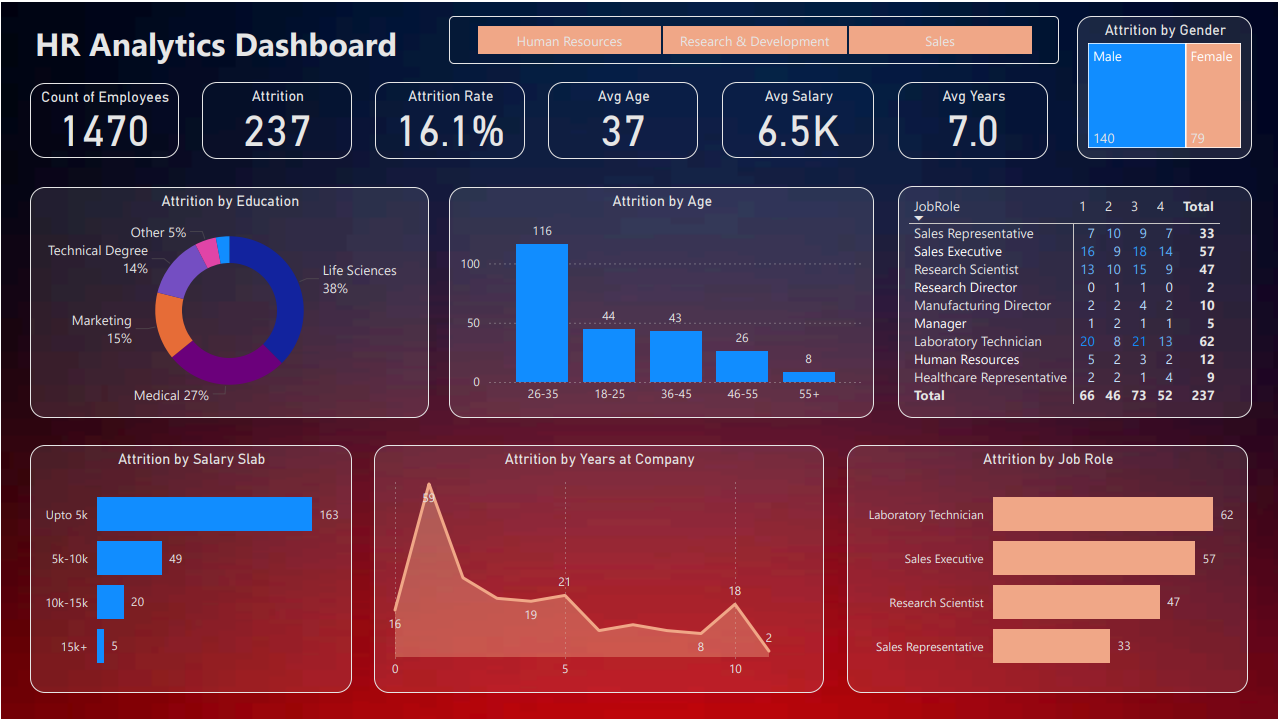

The dashboard page shown, as its layout file describes it:
{"tool":"powerbi","page":{"name":"Page 1","canvas":[1280,720],"ordinal":0},"visuals":[{"type":"card","title":"Count of Employees","fields":{"Values":["CountNonNull(HR_Analytics.EmpID)"]},"box":[28.8,80.7,149.3,75.6],"z":0},{"type":"card","title":"Attrition","fields":{"Values":["Sum(HR_Analytics.AttritionCount)"]},"box":[200.6,80.1,150.5,76.9],"z":1000},{"type":"card","title":"Attrition Rate","fields":{"Values":["HR_Analytics.AttritionRate"]},"box":[373.6,80.1,150.5,76.9],"z":2000},{"type":"card","title":"Avg Age","fields":{"Values":["Avg(HR_Analytics.Age)"]},"box":[546.5,80.1,150.5,76.9],"z":3000},{"type":"card","title":"Avg Salary","fields":{"Values":["Avg(HR_Analytics.MonthlyIncome)"]},"box":[720.6,80.3,152.1,75.3],"z":4000},{"type":"card","title":"Avg Years","fields":{"Values":["Avg(HR_Analytics.YearsAtCompany)"]},"box":[896.8,80.3,150.5,76.9],"z":5000},{"type":"donutChart","title":"Attrition by Education","fields":{"Category":["HR_Analytics.EducationField"],"Y":["Sum(HR_Analytics.AttritionCount)"]},"box":[28.8,185.3,398.7,230.6],"z":6000},{"type":"columnChart","title":"Attrition by Age","fields":{"Category":["HR_Analytics.AgeGroup"],"Y":["Sum(HR_Analytics.AttritionCount)"]},"box":[448.4,185.3,424.4,230.6],"z":7000},{"type":"pivotTable","fields":{"Rows":["HR_Analytics.JobRole"],"Columns":["HR_Analytics.JobSatisfaction"],"Values":["Sum(HR_Analytics.AttritionCount)"]},"box":[896.8,183.7,353.9,232.2],"z":8000},{"type":"barChart","title":"Attrition by Salary Slab","fields":{"Category":["HR_Analytics.SalarySlab"],"Y":["Sum(HR_Analytics.AttritionCount)"]},"box":[28.8,442.9,321.9,248.2],"z":9000},{"type":"barChart","title":"Attrition by Job Role","fields":{"Y":["Sum(HR_Analytics.AttritionCount)"],"Category":["HR_Analytics.JobRole"]},"box":[845.5,442.9,401.9,248.2],"z":10000},{"type":"areaChart","title":"Attrition by Years at Company","fields":{"Category":["HR_Analytics.YearsAtCompany"],"Y":["Sum(HR_Analytics.AttritionCount)"]},"box":[373.1,442.9,450,248.2],"z":11000},{"type":"treemap","title":"Attrition by Gender","fields":{"Values":["Sum(HR_Analytics.AttritionCount)"],"Group":["HR_Analytics.Gender"]},"box":[1076.1,14.4,174.5,142.5],"z":12000},{"type":"slicer","fields":{"Values":["HR_Analytics.Department"]},"box":[448.4,14.4,610.1,48],"z":13000},{"type":"textbox","box":[28.8,14.4,462.8,65.7],"z":14000}]}

Visuals, with their boxes in screenshot pixels (x1, y1, x2, y2), scaled from the page's 1280x720 canvas onto the 1278x719 screenshot:
"Count of Employees" card: bbox(29, 81, 178, 156)
"Attrition" card: bbox(200, 80, 351, 157)
"Attrition Rate" card: bbox(373, 80, 523, 157)
"Avg Age" card: bbox(546, 80, 696, 157)
"Avg Salary" card: bbox(719, 80, 871, 155)
"Avg Years" card: bbox(895, 80, 1046, 157)
"Attrition by Education" donutChart: bbox(29, 185, 427, 415)
"Attrition by Age" columnChart: bbox(448, 185, 871, 415)
pivotTable - HR_Analytics.JobRole x HR_Analytics.JobSatisfaction: bbox(895, 183, 1249, 415)
"Attrition by Salary Slab" barChart: bbox(29, 442, 350, 690)
"Attrition by Job Role" barChart: bbox(844, 442, 1245, 690)
"Attrition by Years at Company" areaChart: bbox(373, 442, 822, 690)
"Attrition by Gender" treemap: bbox(1074, 14, 1249, 157)
slicer - HR_Analytics.Department: bbox(448, 14, 1057, 62)
textbox: bbox(29, 14, 491, 80)
